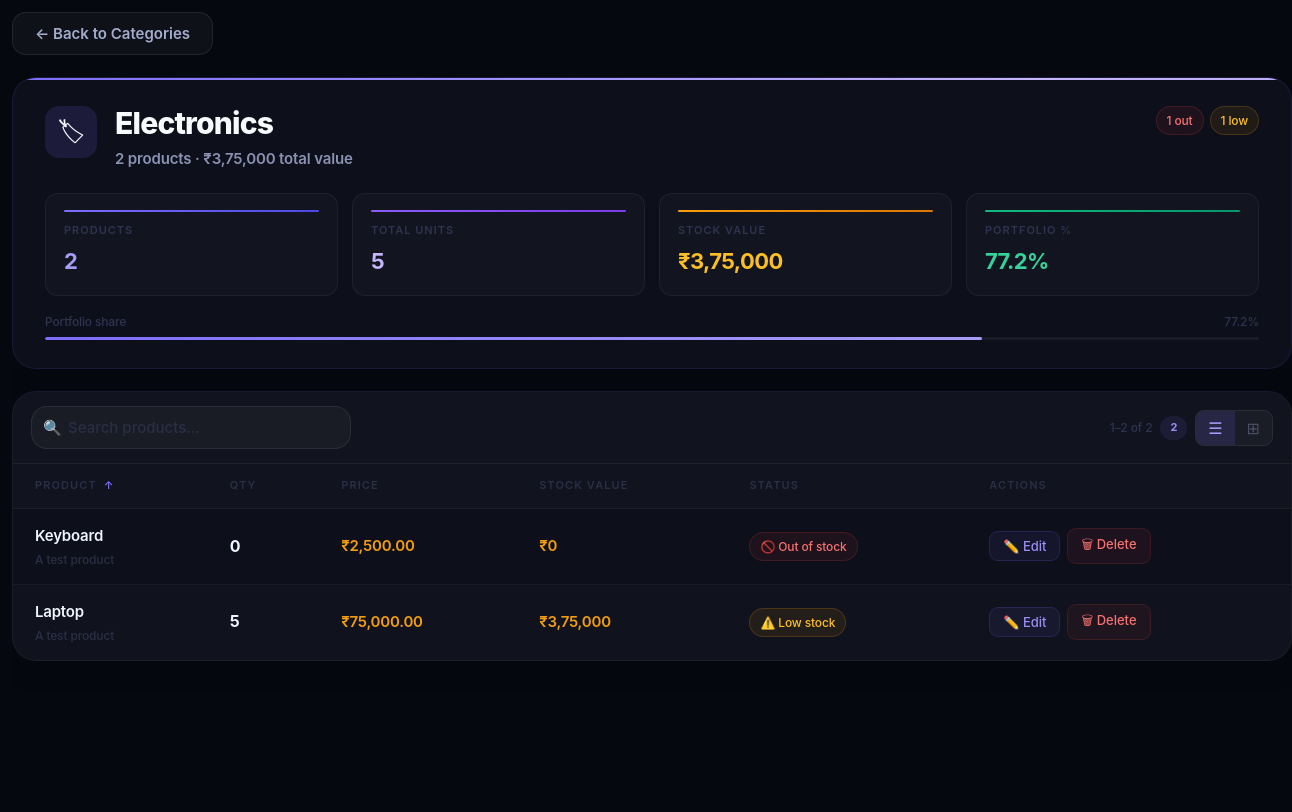
Page Load — CategoryProductsPage › filters products by search term
Type "Laptop" into the field with placeholder "Search products..." at {"x": 191, "y": 428}, box [31,406,351,450]
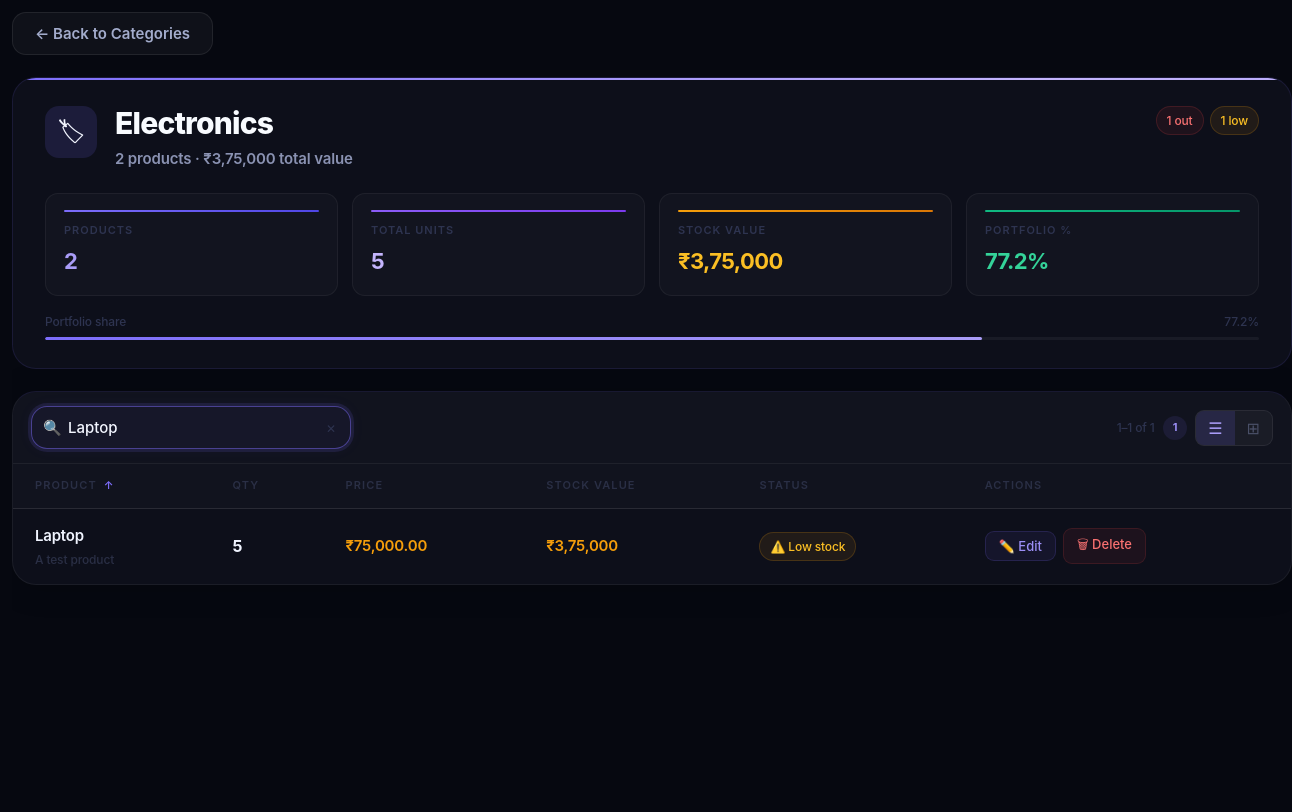
Expected: the text "Laptop" is shown, [35,526,84,545]
Expected: the text "Keyboard" is gone
